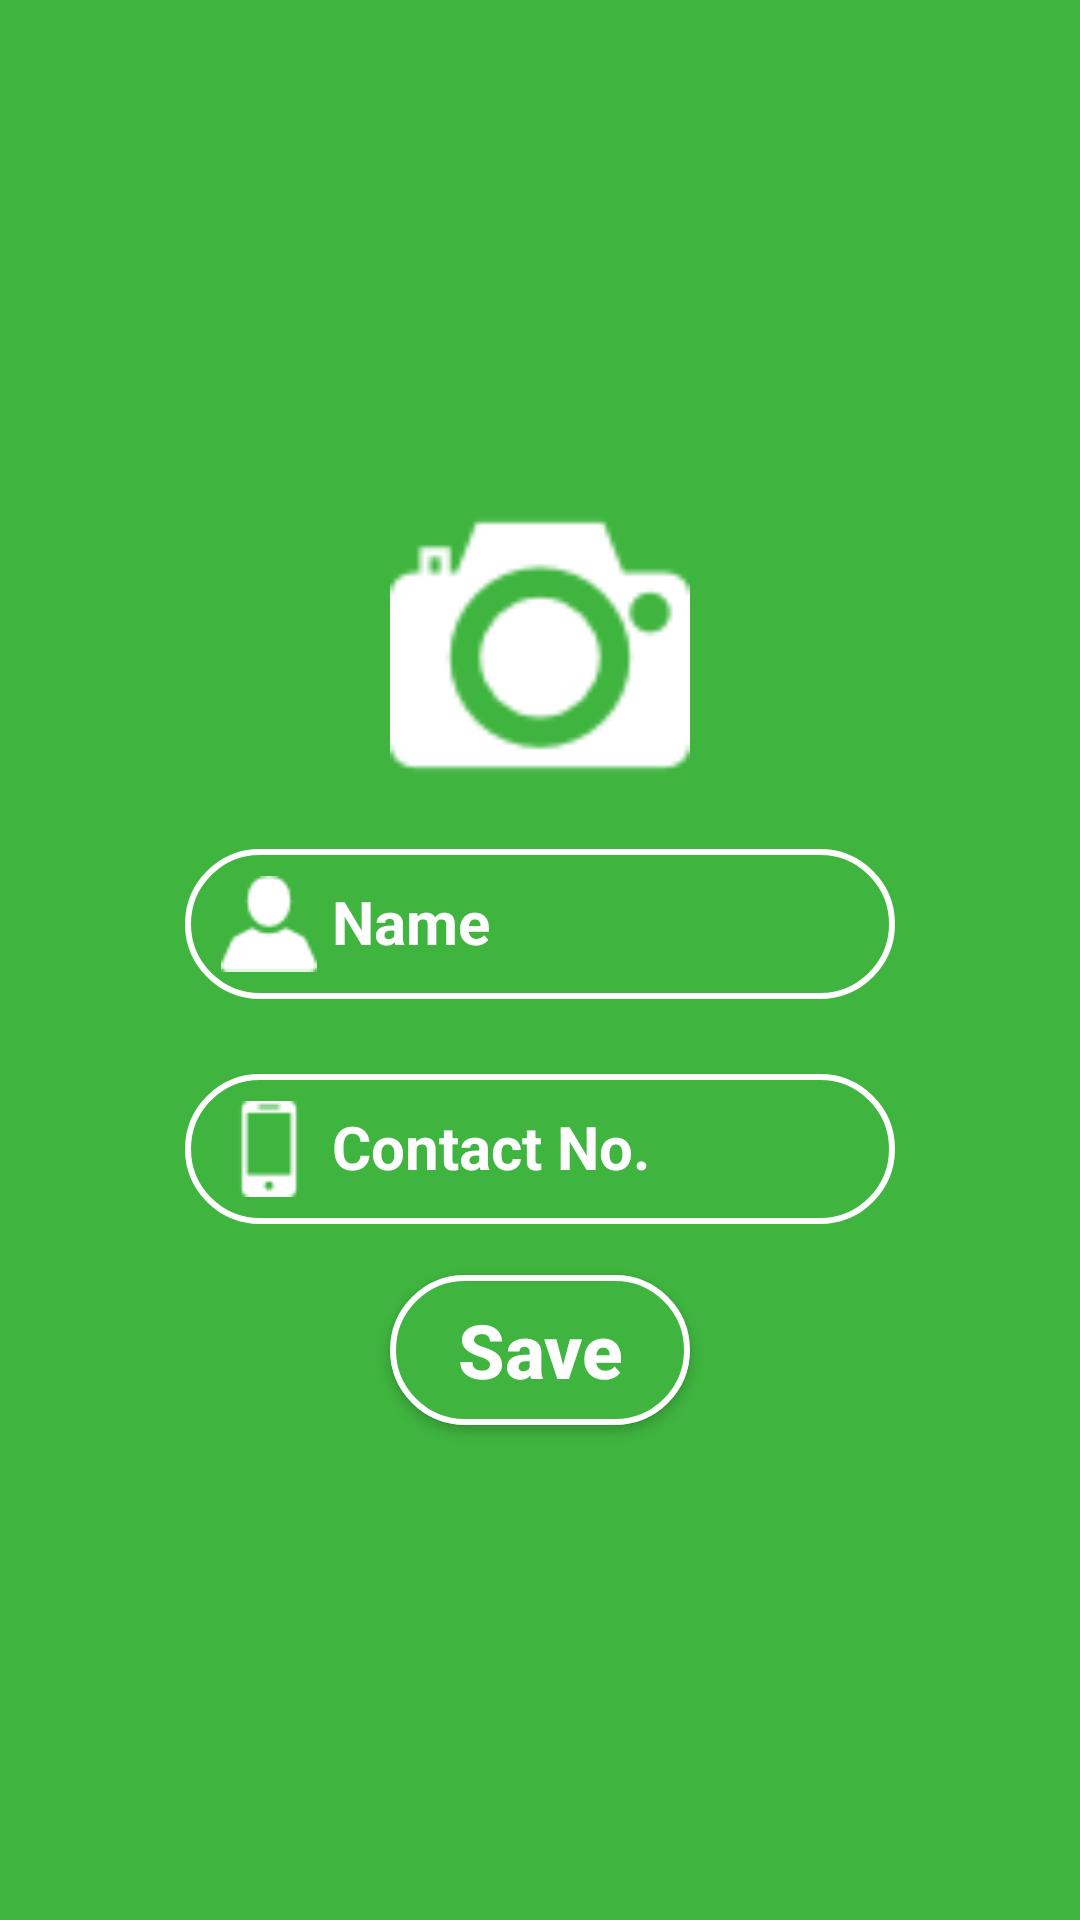

Icon click points for this 1080 x 1920 phone screenshot, format point (x, y):
photo camera: point (540, 645)
